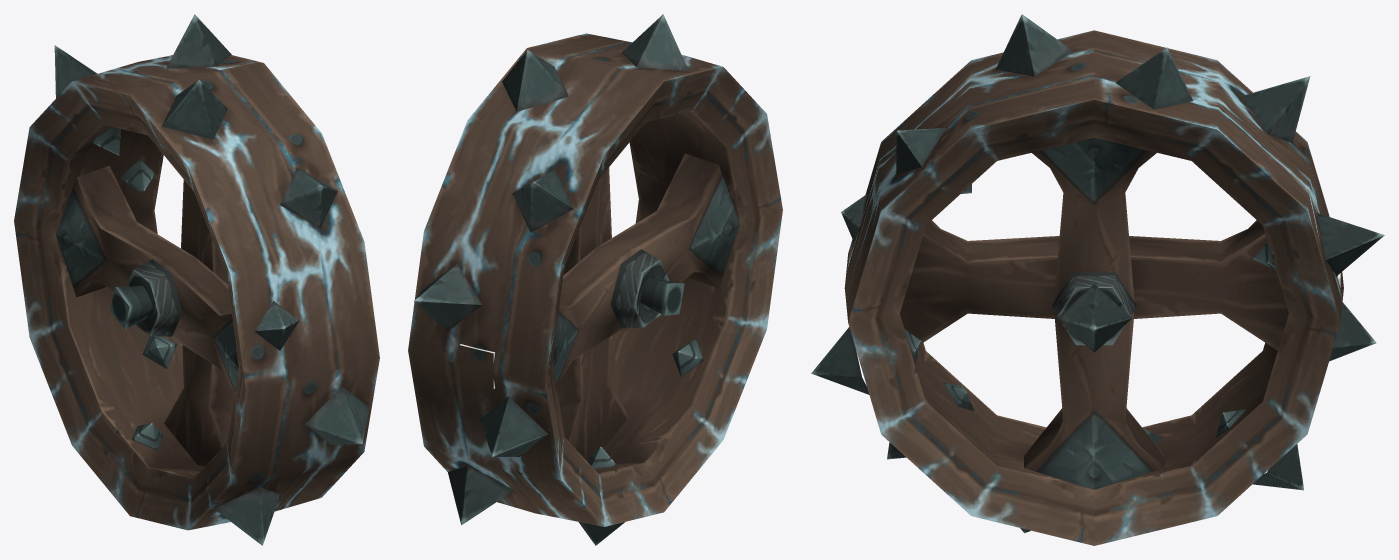
File: model_wheel.glb
The picture shows the model from 3 angles, left to right: view 1: azimuth 30°, elevation 25°; view 2: azimuth 150°, elevation 25°; view 3: azimuth 270°, elevation 25°; orthographic projection. The views are drawn at different scales.
Visible parts, largest first — view 1: siegewheel_winter.model_wheel-MeshNodes["mesh_wheel"]; view 2: siegewheel_winter.model_wheel-MeshNodes["mesh_wheel"]; view 3: siegewheel_winter.model_wheel-MeshNodes["mesh_wheel"].
Part boxes in pixels (x1,y1,x2,y2): siegewheel_winter.model_wheel-MeshNodes["mesh_wheel"]: [14, 14, 379, 545]; siegewheel_winter.model_wheel-MeshNodes["mesh_wheel"]: [408, 14, 782, 545]; siegewheel_winter.model_wheel-MeshNodes["mesh_wheel"]: [811, 14, 1384, 545].
Size of the model in its own units: 1.18 by 3.36 by 3.5.
2 materials, 1 textured.
